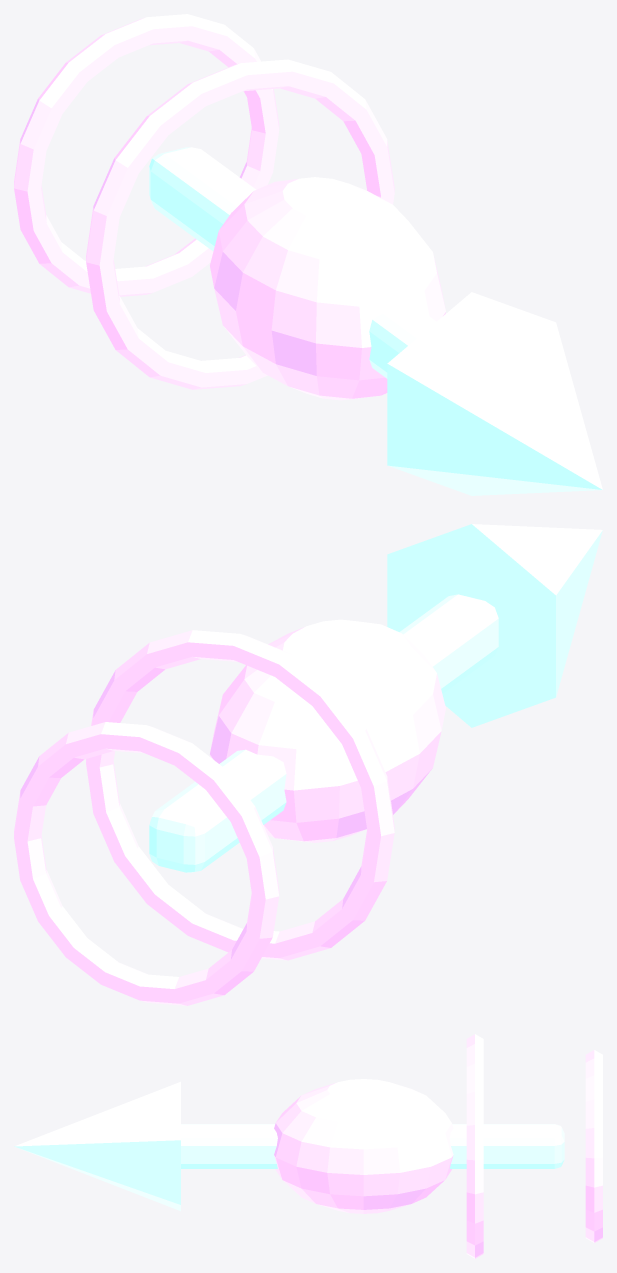
File: vfx_guardian_projectile_v0_7.glb
The picture shows the model from 3 angles, top to bottom: view 1: azimuth 30°, elevation 25°; view 2: azimuth 150°, elevation 25°; view 3: azimuth 270°, elevation 25°; orthographic projection. The views are drawn at different scales.
Visible parts, largest first — view 1: presentation_guardian_projectile_core, presentation_guardian_projectile_tip, presentation_guardian_projectile_ring_0, presentation_guardian_projectile_ring_1, presentation_guardian_projectile_spine; view 2: presentation_guardian_projectile_core, presentation_guardian_projectile_tip, presentation_guardian_projectile_ring_0, presentation_guardian_projectile_ring_1, presentation_guardian_projectile_spine; view 3: presentation_guardian_projectile_core, presentation_guardian_projectile_tip, presentation_guardian_projectile_spine, presentation_guardian_projectile_ring_0, presentation_guardian_projectile_ring_1.
Boxes of the visible parts, <box> form: presentation_guardian_projectile_core: <box>210,177,445,400</box>; presentation_guardian_projectile_tip: <box>387,292,602,495</box>; presentation_guardian_projectile_ring_0: <box>86,59,394,389</box>; presentation_guardian_projectile_ring_1: <box>14,14,279,296</box>; presentation_guardian_projectile_spine: <box>149,147,436,378</box>; presentation_guardian_projectile_core: <box>210,619,445,842</box>; presentation_guardian_projectile_tip: <box>387,524,602,727</box>; presentation_guardian_projectile_ring_0: <box>86,630,394,960</box>; presentation_guardian_projectile_ring_1: <box>14,722,279,1005</box>; presentation_guardian_projectile_spine: <box>149,594,498,872</box>; presentation_guardian_projectile_core: <box>274,1079,453,1213</box>; presentation_guardian_projectile_tip: <box>14,1081,180,1211</box>; presentation_guardian_projectile_spine: <box>181,1124,564,1168</box>; presentation_guardian_projectile_ring_0: <box>466,1034,483,1258</box>; presentation_guardian_projectile_ring_1: <box>585,1050,602,1242</box>.
Size of the model in its own units: 0.57 by 0.57 by 1.48.
